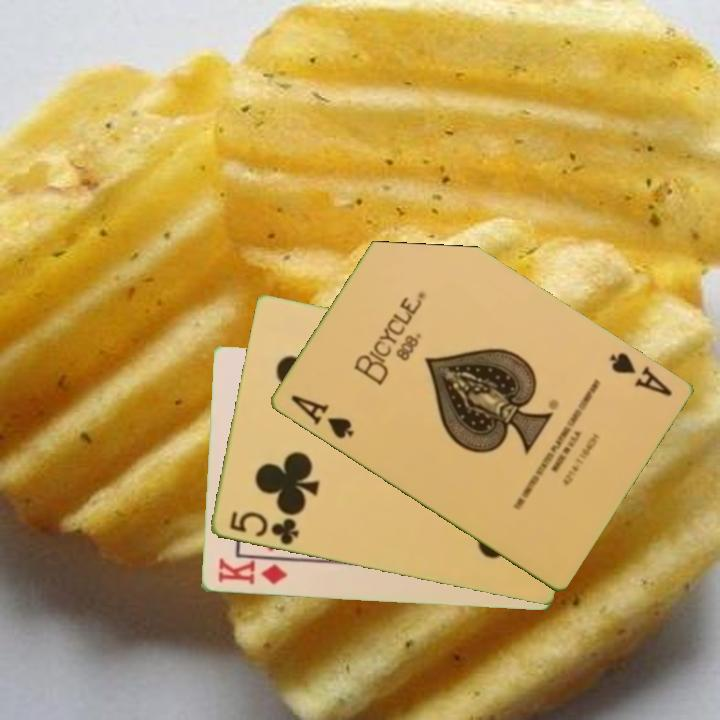5c: (225, 508, 301, 549)
As: (605, 348, 675, 400), (287, 391, 356, 442)
Kd: (214, 555, 290, 588)
